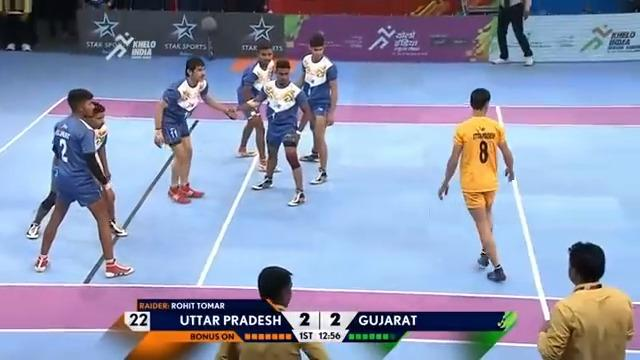Player: (32, 88, 134, 278), (152, 56, 236, 203), (214, 265, 329, 359), (246, 58, 314, 206), (289, 32, 338, 184), (233, 41, 280, 172), (84, 100, 128, 236), (489, 0, 534, 66)
Raider: (438, 86, 516, 280)
referee: (536, 240, 635, 359)
